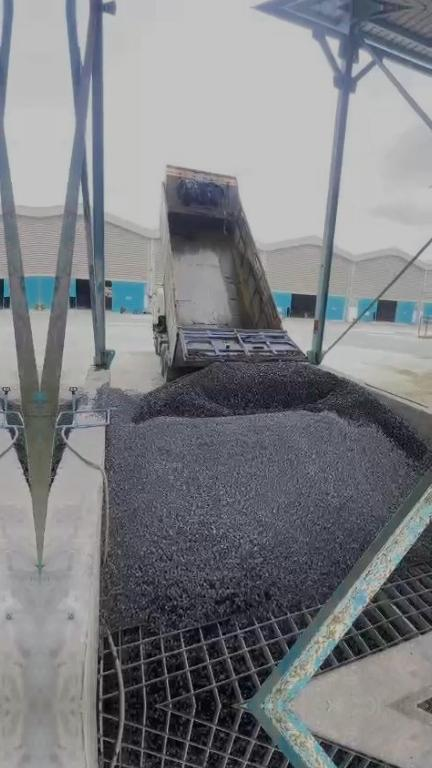gravel: (103, 391, 424, 629), (98, 362, 432, 460), (393, 522, 432, 575), (50, 429, 63, 482), (58, 391, 71, 436)
sand: (398, 368, 432, 404)
